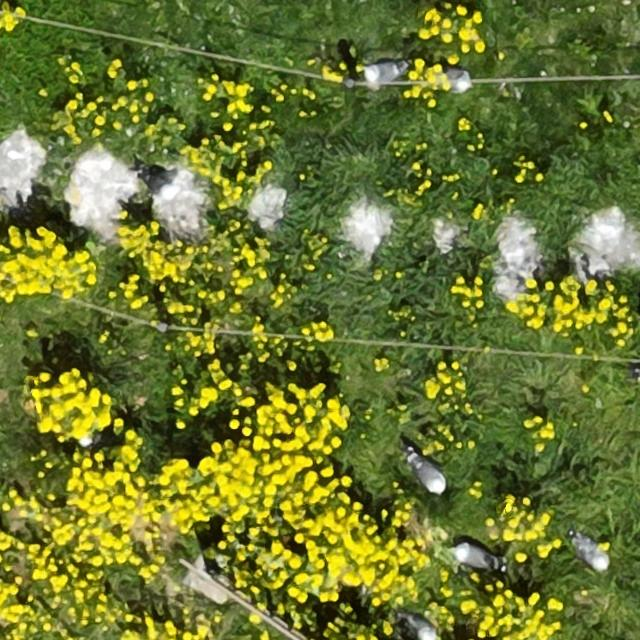umineko: (411, 458, 445, 493), (576, 537, 607, 571), (454, 544, 493, 568), (434, 68, 476, 90), (364, 61, 402, 82), (406, 615, 436, 639)
